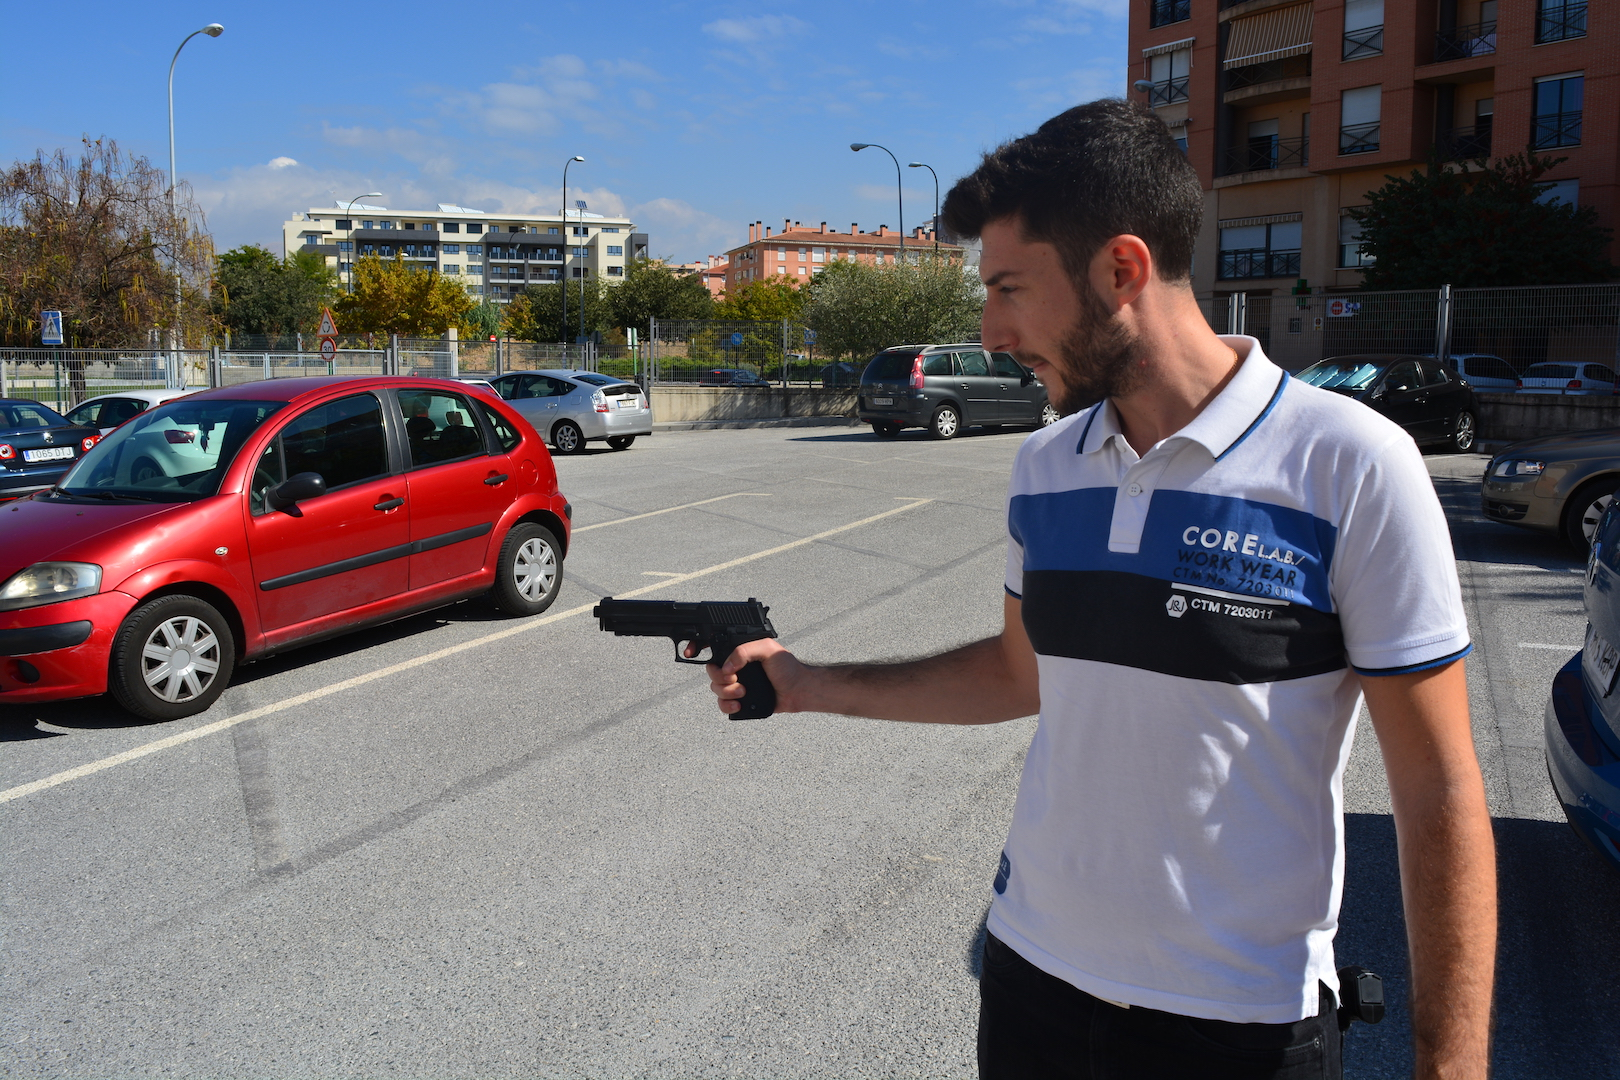pistol: (593, 595, 780, 722)
